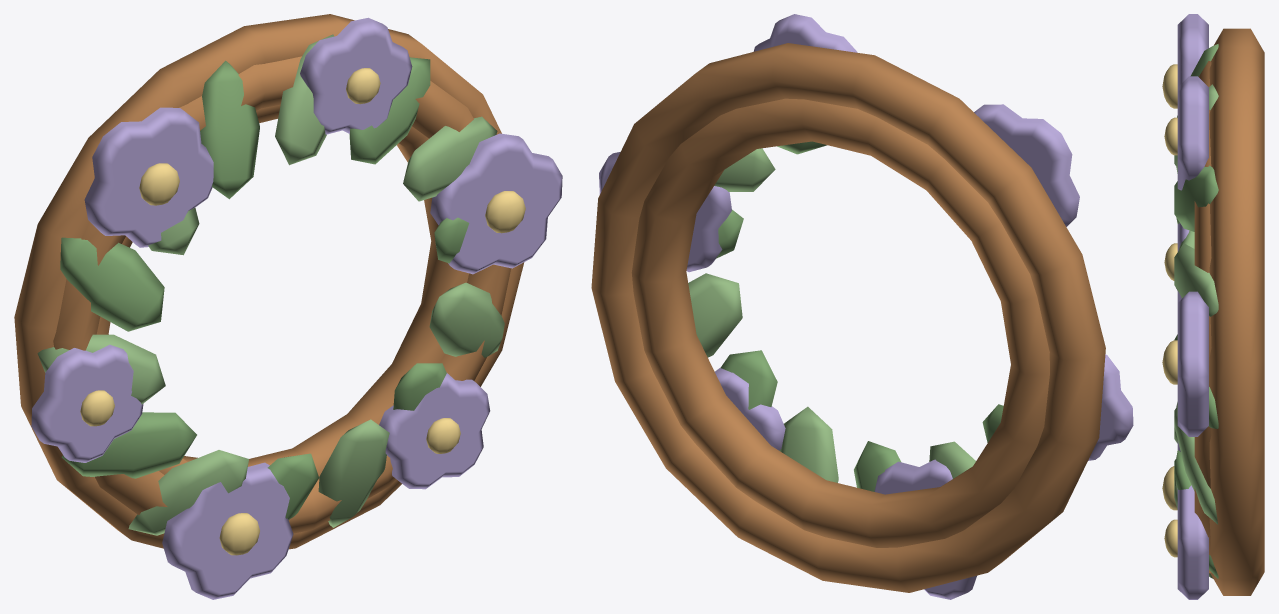
Rendered from cool_pansy_wreath.glb.
3 views of the same model, side by side, from view 1: azimuth 30°, elevation 25°; view 2: azimuth 150°, elevation 25°; view 3: azimuth 270°, elevation 25° (orthographic). The views are drawn at different scales.
Parts seen in each view (by area): view 1: cool_pansy_wreath_mesh; view 2: cool_pansy_wreath_mesh; view 3: cool_pansy_wreath_mesh.
Boxes of the visible parts, bbox=[...] form: cool_pansy_wreath_mesh: bbox=[14, 14, 562, 599]; cool_pansy_wreath_mesh: bbox=[591, 14, 1133, 599]; cool_pansy_wreath_mesh: bbox=[1162, 14, 1264, 599].
Bounding box in the file's own units: 0.4788 × 0.4703 × 0.0818.
